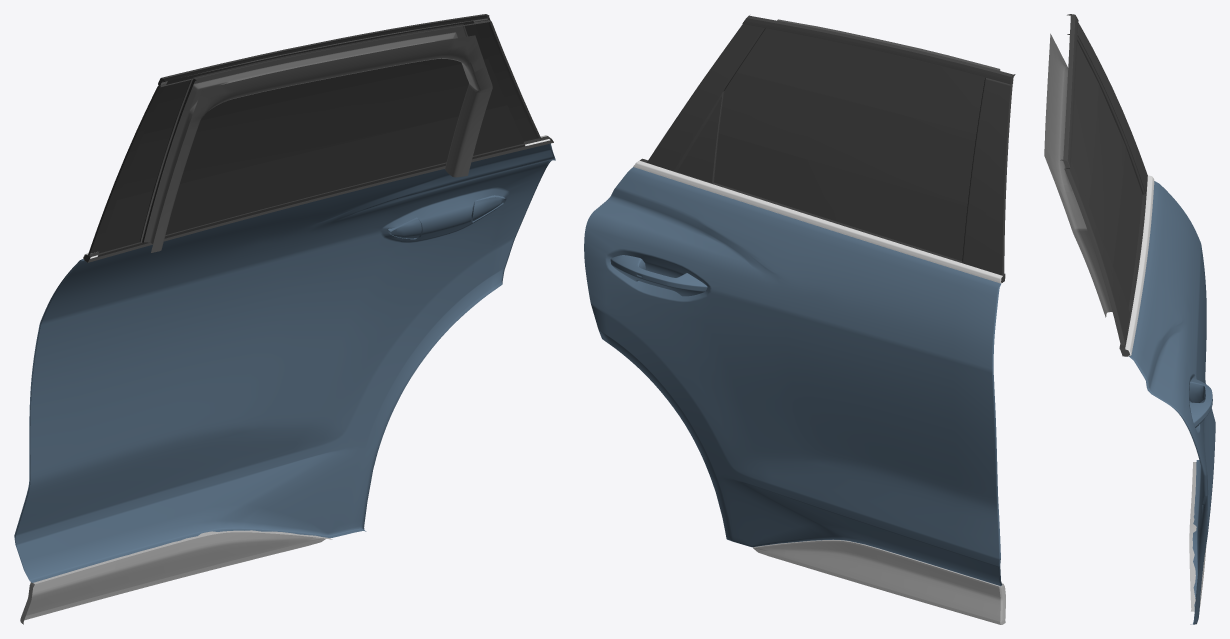
Rendered from yhcm.glb.
3 renders of one model, left to right at view 1: azimuth 30°, elevation 25°; view 2: azimuth 150°, elevation 25°; view 3: azimuth 270°, elevation 25°, orthographic. The views are drawn at different scales.
Visible parts, largest first — view 1: polySurface13; view 2: polySurface13; view 3: polySurface13.
Boxes of the visible parts, x1,y1,x2,y2 form: polySurface13: (14,14,555,624); polySurface13: (584,15,1015,624); polySurface13: (1044,14,1215,624).
Size of the model in its own units: 1.04 by 1.13 by 0.3443.
